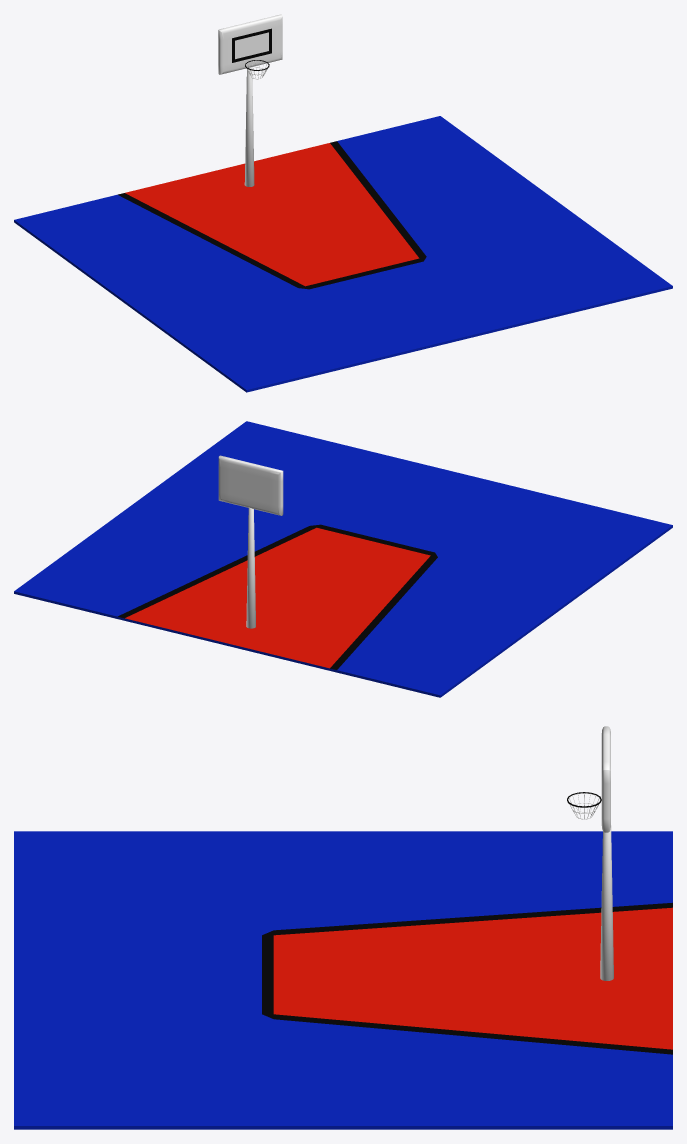
The model's file is BasketSahasi.fbx.
3 renders of one model, top to bottom at view 1: azimuth 30°, elevation 25°; view 2: azimuth 150°, elevation 25°; view 3: azimuth 270°, elevation 25°, orthographic. The views are drawn at different scales.
Parts seen in each view (by area): view 1: BasketPotası; view 2: BasketPotası; view 3: BasketPotası.
Boxes of the visible parts, bbox=[...] form: BasketPotası: bbox=[14, 14, 672, 392]; BasketPotası: bbox=[14, 421, 672, 697]; BasketPotası: bbox=[14, 726, 672, 1129].
Bounding box in the file's own units: 1011 × 374 × 955.
